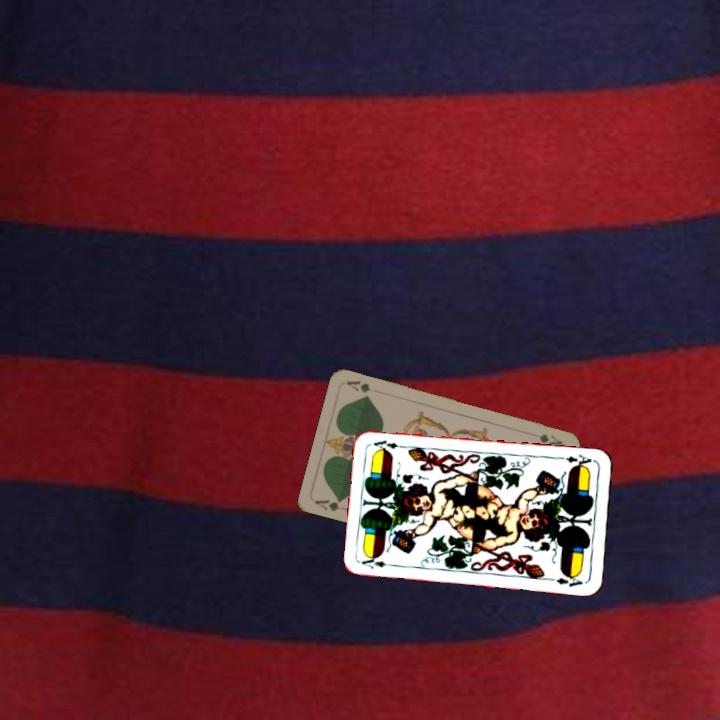EA: (562, 450, 596, 471), (358, 554, 398, 571)
GA: (525, 429, 565, 448), (312, 495, 344, 514)
